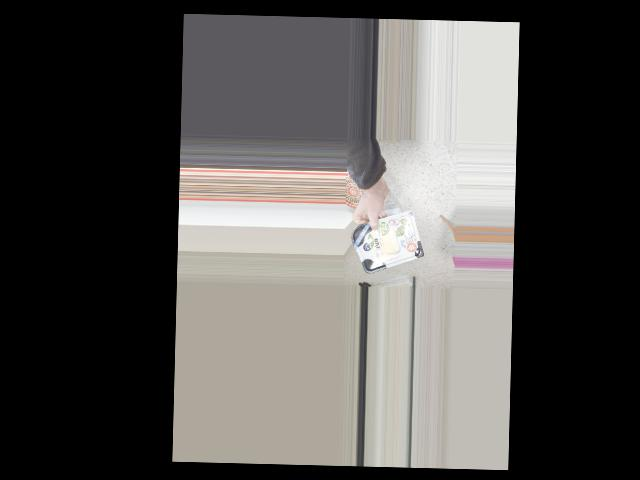cheese: (355, 219, 419, 268)
